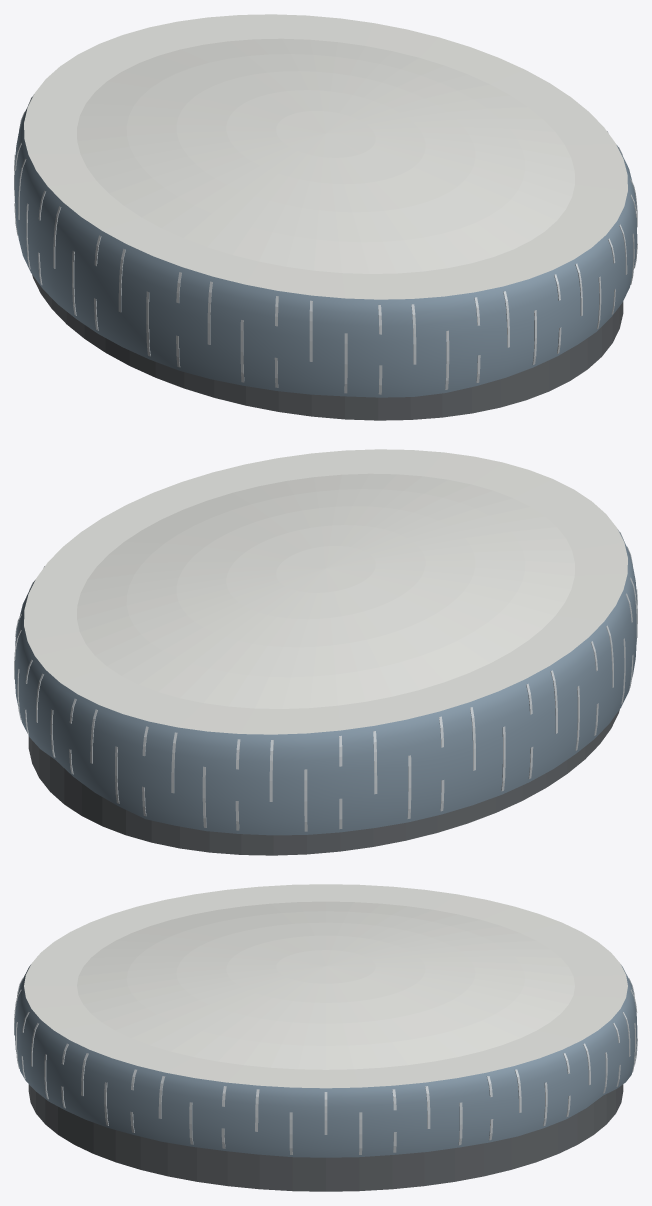
File: kc-t-mobile-center.glb
The picture shows the model from 3 angles, top to bottom: view 1: azimuth 30°, elevation 25°; view 2: azimuth 150°, elevation 25°; view 3: azimuth 270°, elevation 25°; orthographic projection. The views are drawn at different scales.
Visible parts, largest first — view 1: T-Mobile Center; view 2: T-Mobile Center; view 3: T-Mobile Center.
Boxes of the visible parts, x1,y1,x2,y2 form: T-Mobile Center: (14, 14, 637, 420); T-Mobile Center: (14, 449, 637, 855); T-Mobile Center: (14, 884, 637, 1191).
Bounding box in the file's own units: 135 × 37.4 × 169.
